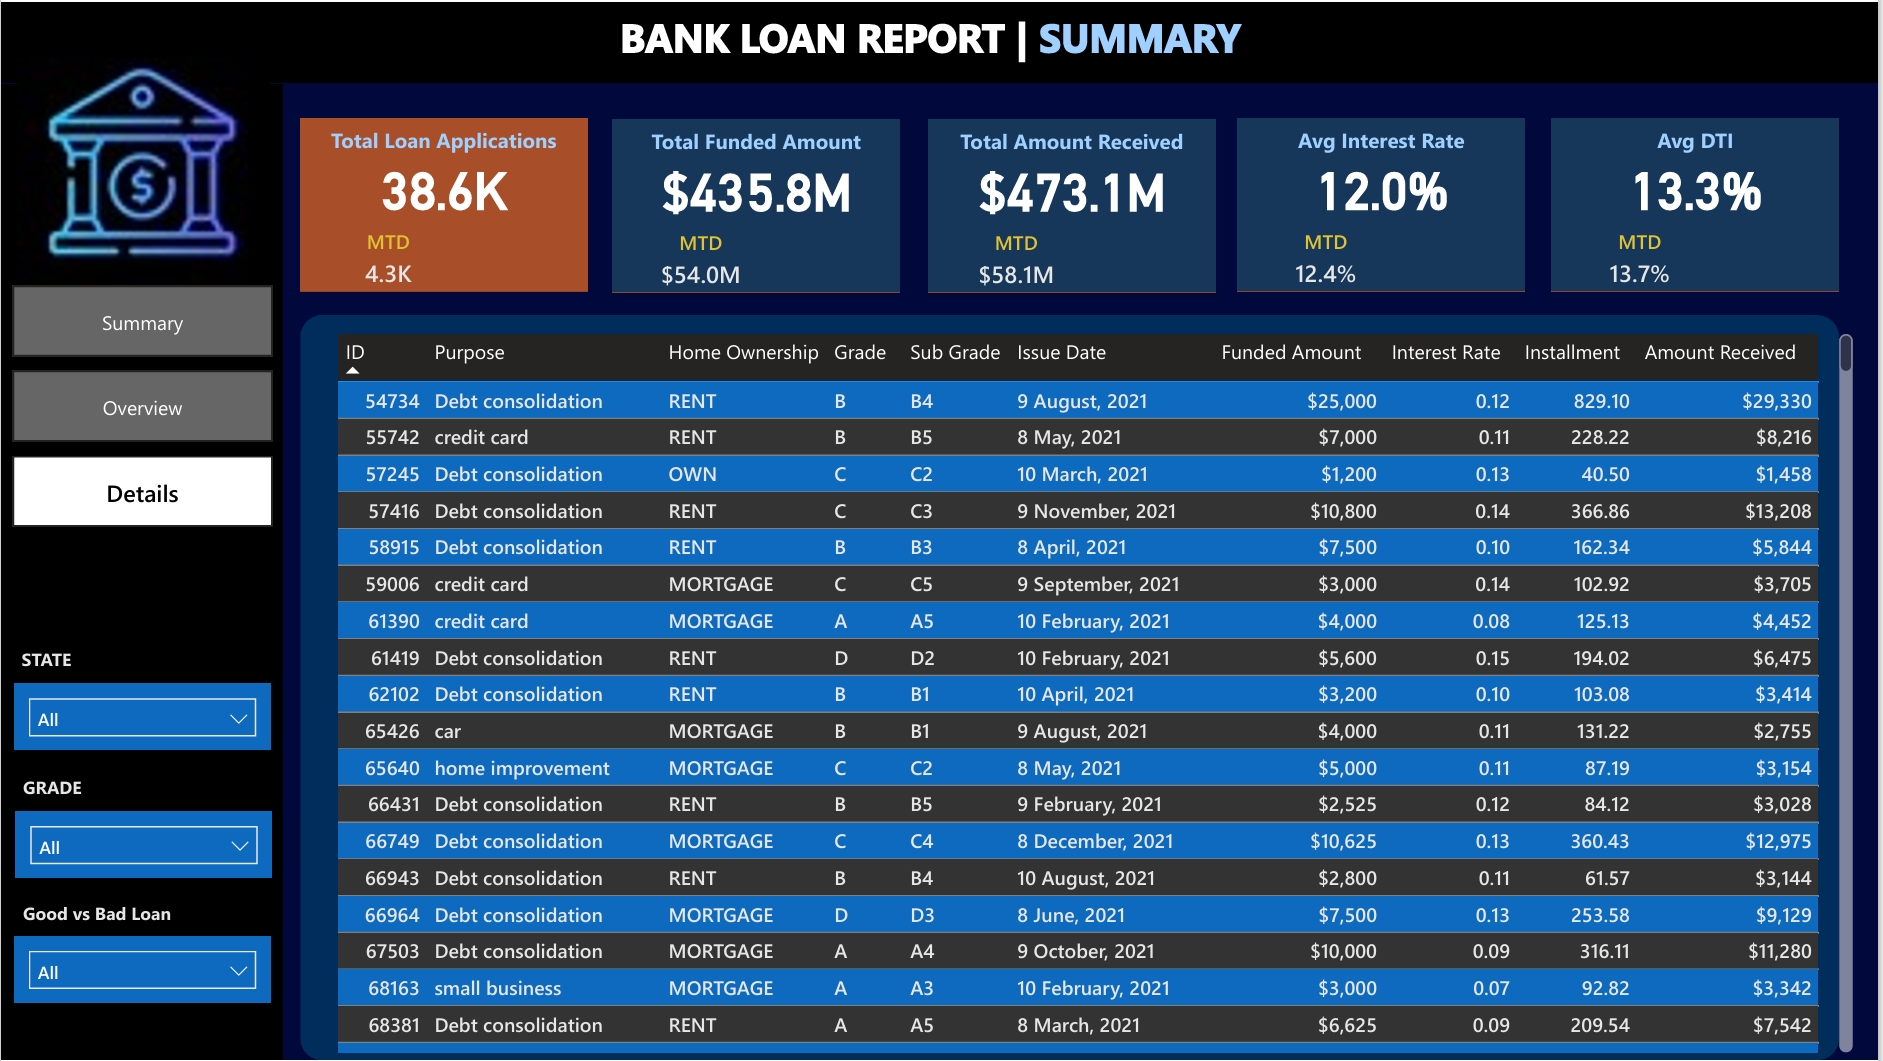

The dashboard page shown, as its layout file describes it:
{"tool":"powerbi","page":{"name":"Details","canvas":[1280,720],"ordinal":2},"visuals":[{"type":"shape","box":[204.3,78.8,195.6,117.7],"z":0,"group":"g1"},{"type":"shape","box":[843.7,78.8,195.6,117.7],"z":0,"group":"g4"},{"type":"shape","box":[1056.8,78.8,195.6,117.7],"z":0,"group":"g5"},{"type":"shape","box":[417.4,80,195.6,117.7],"z":0,"group":"g2"},{"type":"shape","box":[631.8,80,195.6,117.7],"z":0,"group":"g3"},{"type":"shape","box":[203.8,212.5,1048.8,507.5],"z":0},{"type":"shape","box":[0,0,1280.4,55],"z":1000},{"type":"card","fields":{"Values":["bank_loan_db bank_loan_data.Total Loan Applications"]},"box":[190,85.2,224.3,81.1],"z":1000,"group":"g1"},{"type":"card","fields":{"Values":["bank_loan_db bank_loan_data.Avg Interest Rate"]},"box":[829.4,85.2,224.3,81.1],"z":1000,"group":"g4"},{"type":"card","fields":{"Values":["bank_loan_db bank_loan_data.Avg DTI"]},"box":[1042.5,85.2,224.3,81.1],"z":1000,"group":"g5"},{"type":"card","fields":{"Values":["bank_loan_db bank_loan_data.Total Funded Amount"]},"box":[403.1,86.4,224.3,81.1],"z":1000,"group":"g2"},{"type":"card","fields":{"Values":["bank_loan_db bank_loan_data.Total Amount Received"]},"box":[617.5,86.4,224.3,81.1],"z":1000,"group":"g3"},{"type":"shape","box":[0,55.7,192.5,664.9],"z":2000},{"type":"textbox","box":[204.3,78.8,195.6,31.8],"z":2000,"group":"g1"},{"type":"textbox","box":[843.7,78.8,195.6,31.8],"z":2000,"group":"g4"},{"type":"textbox","box":[1056.8,78.8,195.6,31.8],"z":2000,"group":"g5"},{"type":"textbox","box":[417.4,80,195.6,31.8],"z":2000,"group":"g2"},{"type":"textbox","box":[631.8,80,195.6,31.8],"z":2000,"group":"g3"},{"type":"textbox","box":[416.7,0,447,47.7],"z":3000},{"type":"card","title":"MTD","fields":{"Values":["bank_loan_db bank_loan_data.MTD Loan Applications"]},"box":[225,153.6,77.9,42.9],"z":3000,"group":"g1"},{"type":"card","title":"MTD","fields":{"Values":["bank_loan_db bank_loan_data.MTD Avg Int Rate"]},"box":[864.4,153.6,77.9,42.9],"z":3000,"group":"g4"},{"type":"card","title":"MTD","fields":{"Values":["bank_loan_db bank_loan_data.MTD Avg DTI"]},"box":[1077.5,153.6,77.9,42.9],"z":3000,"group":"g5"},{"type":"card","title":"MTD","fields":{"Values":["bank_loan_db bank_loan_data.MTD Funded Amount"]},"box":[438.1,154.8,77.9,42.9],"z":3000,"group":"g2"},{"type":"card","title":"MTD","fields":{"Values":["bank_loan_db bank_loan_data.MTD Total Amount Received"]},"box":[652.5,154.8,77.9,42.9],"z":3000,"group":"g3"},{"type":"group","id":"g1","title":"Group 1","box":[190,78.8,224.3,117.7],"z":4000},{"type":"group","id":"g2","title":"Group 1","box":[403.1,80,224.3,117.7],"z":5000},{"type":"group","id":"g3","title":"Group 1","box":[617.5,80,224.3,117.7],"z":6000},{"type":"group","id":"g4","title":"Group 1","box":[829.4,78.8,224.3,117.7],"z":7000},{"type":"group","id":"g5","title":"Group 1","box":[1042.5,78.8,224.3,117.7],"z":8000},{"type":"slicer","fields":{"Values":["bank_loan_db bank_loan_data.address_state"]},"box":[8.8,463.8,175,45],"z":9000},{"type":"textbox","box":[8.8,432.5,55,31.2],"z":10000},{"type":"slicer","fields":{"Values":["bank_loan_db bank_loan_data.grade"]},"box":[10,551.2,175,45],"z":11000},{"type":"textbox","box":[10,520,65,31.2],"z":12000},{"type":"slicer","fields":{"Values":["bank_loan_db bank_loan_data.Good vs Bad Loan"]},"box":[8.8,636.2,175,45],"z":13000},{"type":"textbox","box":[10,605.6,125.6,31.1],"z":14000},{"type":"tableEx","fields":{"Values":["bank_loan_db bank_loan_data.id","bank_loan_db bank_loan_data.purpose","bank_loan_db bank_loan_data.home_ownership","bank_loan_db bank_loan_data.grade","bank_loan_db bank_loan_data.sub_grade","bank_loan_db bank_loan_data.issue_date","bank_loan_db bank_loan_data.Total Funded Amount","bank_loan_db bank_loan_data.int_rate","bank_loan_db bank_loan_data.installment","bank_loan_db bank_loan_data.Total Amount Received"]},"box":[224.3,221.1,1043.4,499.5],"z":15000},{"type":"image","box":[5.6,30,182.2,170],"z":16000},{"type":"pageNavigator","box":[7.8,193.3,177.8,166.7],"z":17000}]}

Visuals, with their boxes in screenshot pixels (x1, y1, x2, y2), scaled from the page's 1280x720 canvas onto the 1883x1061 screenshot:
shape: x1=301 y1=116 x2=588 y2=290
shape: x1=1241 y1=116 x2=1529 y2=290
shape: x1=1555 y1=116 x2=1842 y2=290
shape: x1=614 y1=118 x2=902 y2=291
shape: x1=929 y1=118 x2=1217 y2=291
shape: x1=300 y1=313 x2=1843 y2=1060
shape: x1=0 y1=0 x2=1882 y2=81
card - bank_loan_db bank_loan_data.Total Loan Applications: x1=280 y1=126 x2=609 y2=245
card - bank_loan_db bank_loan_data.Avg Interest Rate: x1=1220 y1=126 x2=1550 y2=245
card - bank_loan_db bank_loan_data.Avg DTI: x1=1534 y1=126 x2=1864 y2=245
card - bank_loan_db bank_loan_data.Total Funded Amount: x1=593 y1=127 x2=923 y2=247
card - bank_loan_db bank_loan_data.Total Amount Received: x1=908 y1=127 x2=1238 y2=247
shape: x1=0 y1=82 x2=283 y2=1060
textbox: x1=301 y1=116 x2=588 y2=163
textbox: x1=1241 y1=116 x2=1529 y2=163
textbox: x1=1555 y1=116 x2=1842 y2=163
textbox: x1=614 y1=118 x2=902 y2=165
textbox: x1=929 y1=118 x2=1217 y2=165
textbox: x1=613 y1=0 x2=1271 y2=70
"MTD" card: x1=331 y1=226 x2=446 y2=290
"MTD" card: x1=1272 y1=226 x2=1386 y2=290
"MTD" card: x1=1585 y1=226 x2=1700 y2=290
"MTD" card: x1=644 y1=228 x2=759 y2=291
"MTD" card: x1=960 y1=228 x2=1074 y2=291
"Group 1" group: x1=280 y1=116 x2=609 y2=290
"Group 1" group: x1=593 y1=118 x2=923 y2=291
"Group 1" group: x1=908 y1=118 x2=1238 y2=291
"Group 1" group: x1=1220 y1=116 x2=1550 y2=290
"Group 1" group: x1=1534 y1=116 x2=1864 y2=290
slicer - bank_loan_db bank_loan_data.address_state: x1=13 y1=683 x2=270 y2=750
textbox: x1=13 y1=637 x2=94 y2=683
slicer - bank_loan_db bank_loan_data.grade: x1=15 y1=812 x2=272 y2=879
textbox: x1=15 y1=766 x2=110 y2=812
slicer - bank_loan_db bank_loan_data.Good vs Bad Loan: x1=13 y1=938 x2=270 y2=1004
textbox: x1=15 y1=892 x2=199 y2=938
tableEx - bank_loan_db bank_loan_data.id x bank_loan_db bank_loan_data.purpose: x1=330 y1=326 x2=1865 y2=1060
image: x1=8 y1=44 x2=276 y2=295
pageNavigator: x1=11 y1=285 x2=273 y2=530
